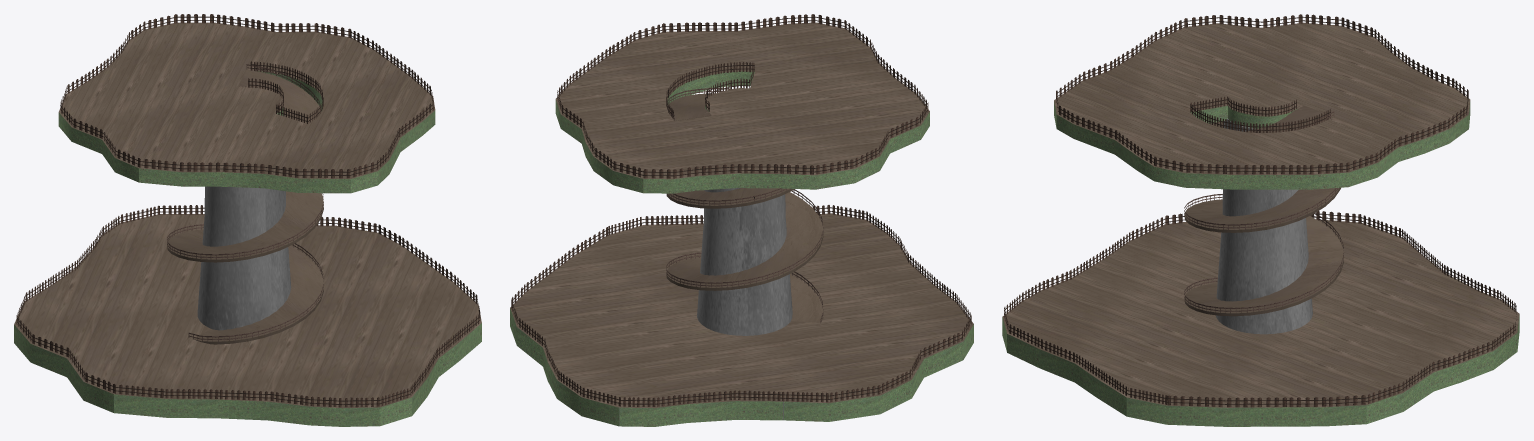
File: end_mvp.gltf
3 renders of one model, left to right at view 1: azimuth 30°, elevation 25°; view 2: azimuth 150°, elevation 25°; view 3: azimuth 270°, elevation 25°, orthographic.
Visible parts, largest first — view 1: lower_terrace, upper_terrace, shore, ramp, upper_fence, lower_fence, railing_ramp; view 2: lower_terrace, upper_terrace, shore, ramp, upper_fence, lower_fence, railing_ramp; view 3: lower_terrace, upper_terrace, shore, ramp, upper_fence, lower_fence, railing_ramp.
Part boxes in pixels (box(x1,y1,x2,y2)): lower_terrace: box(14, 214, 481, 426); upper_terrace: box(58, 22, 435, 193); shore: box(197, 115, 291, 330); ramp: box(167, 69, 323, 344); upper_fence: box(60, 14, 433, 178); lower_fence: box(16, 205, 480, 407); railing_ramp: box(167, 64, 323, 341); lower_terrace: box(510, 213, 973, 426); upper_terrace: box(555, 22, 929, 193); shore: box(697, 188, 792, 335); ramp: box(666, 93, 823, 322); upper_fence: box(557, 14, 928, 178); lower_fence: box(511, 205, 971, 406); railing_ramp: box(666, 88, 823, 322); lower_terrace: box(1002, 219, 1519, 426); upper_terrace: box(1054, 22, 1470, 189); shore: box(1216, 118, 1312, 334); ramp: box(1184, 106, 1343, 316); upper_fence: box(1056, 14, 1468, 174); lower_fence: box(1004, 211, 1516, 407); railing_ramp: box(1184, 111, 1343, 313).
Size of the model in its own units: 84.84 by 50.89 by 98.16.
3 materials, 3 textured.
